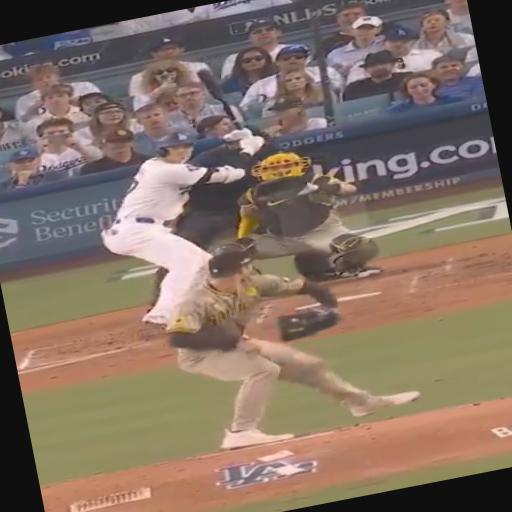bat: (198, 69, 242, 128)
